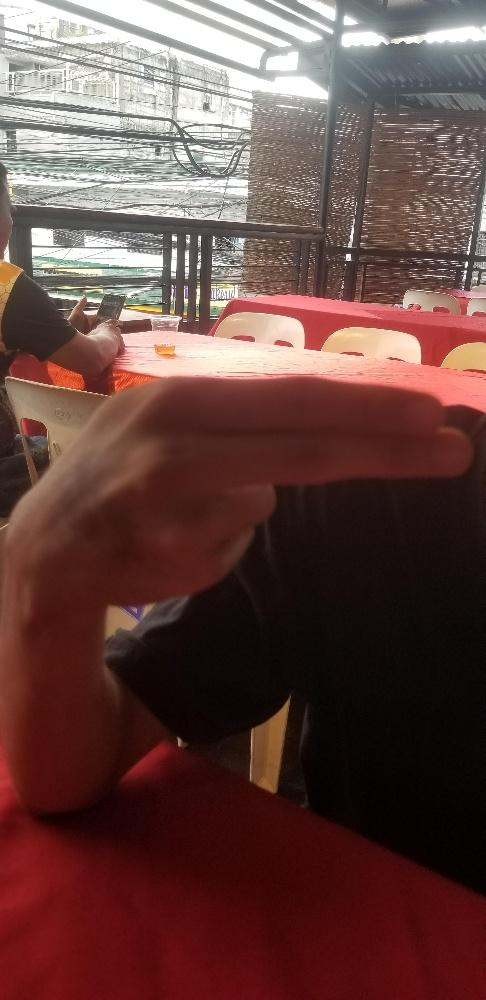h: (10, 370, 476, 604)
